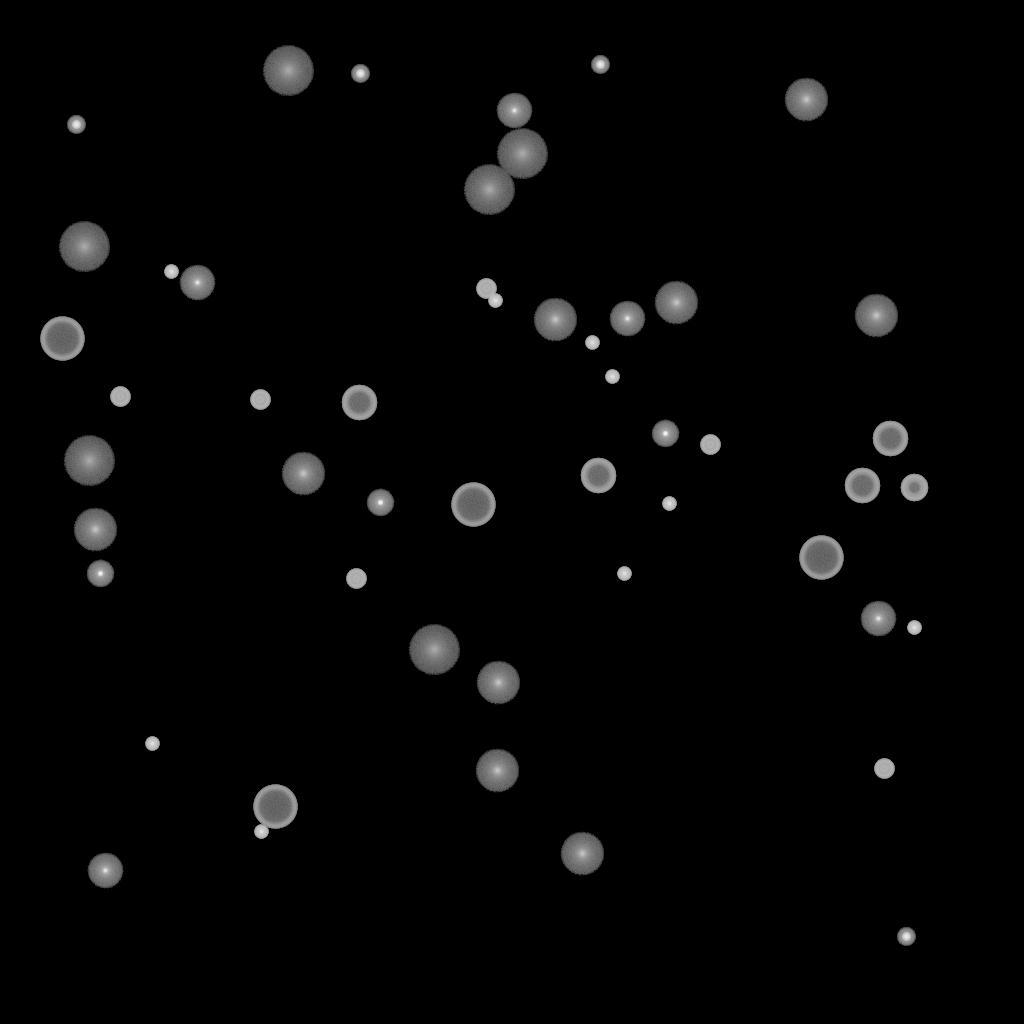depth:-10: (86, 560, 114, 588), (366, 489, 394, 517), (651, 420, 679, 448)
depth:-20: (351, 65, 369, 83), (591, 56, 609, 74), (67, 116, 85, 134), (897, 928, 915, 946)
depth:-30: (488, 294, 502, 308), (605, 370, 619, 384), (145, 737, 159, 751), (907, 621, 921, 635), (617, 567, 631, 581), (254, 825, 268, 839), (164, 265, 178, 279), (662, 497, 676, 511), (585, 336, 599, 350)
depth:-40: (250, 390, 270, 410), (476, 279, 496, 299), (110, 387, 130, 407), (346, 569, 366, 589), (874, 759, 894, 779), (700, 435, 720, 455)
depth:-50: (900, 474, 928, 502)
depth:-60: (872, 421, 908, 457), (341, 385, 377, 421), (844, 468, 880, 504), (580, 458, 616, 494)
depth:-70: (40, 317, 84, 361), (799, 536, 843, 580), (451, 483, 495, 527), (253, 785, 297, 829)
depth:0: (87, 853, 123, 889), (179, 265, 215, 301), (496, 93, 532, 129), (860, 601, 896, 637), (609, 301, 645, 337)
depth:10: (281, 452, 325, 496), (654, 281, 698, 325), (533, 298, 577, 342), (475, 749, 519, 793), (784, 78, 828, 122), (560, 832, 604, 876), (73, 508, 117, 552), (476, 661, 520, 705), (854, 294, 898, 338)
depth:20: (408, 625, 460, 675), (58, 222, 110, 272), (463, 165, 515, 215), (262, 46, 314, 96), (63, 436, 115, 486), (496, 129, 548, 179)
